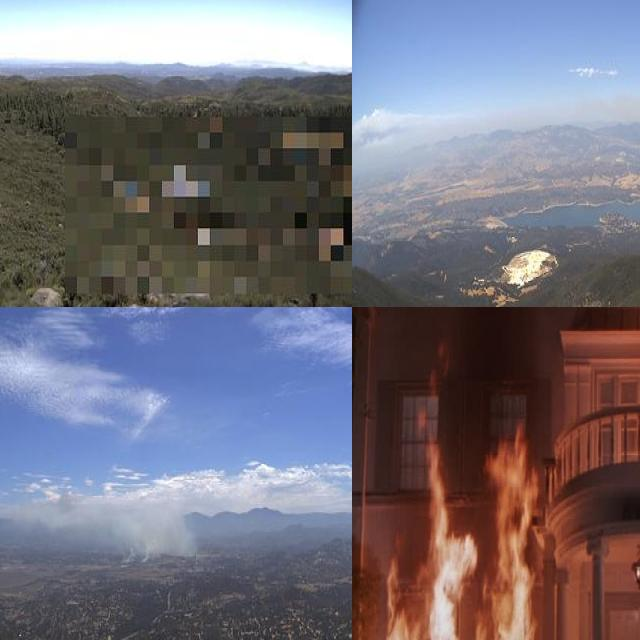fire: (352, 368, 562, 640)
smoke: (28, 479, 202, 564)
